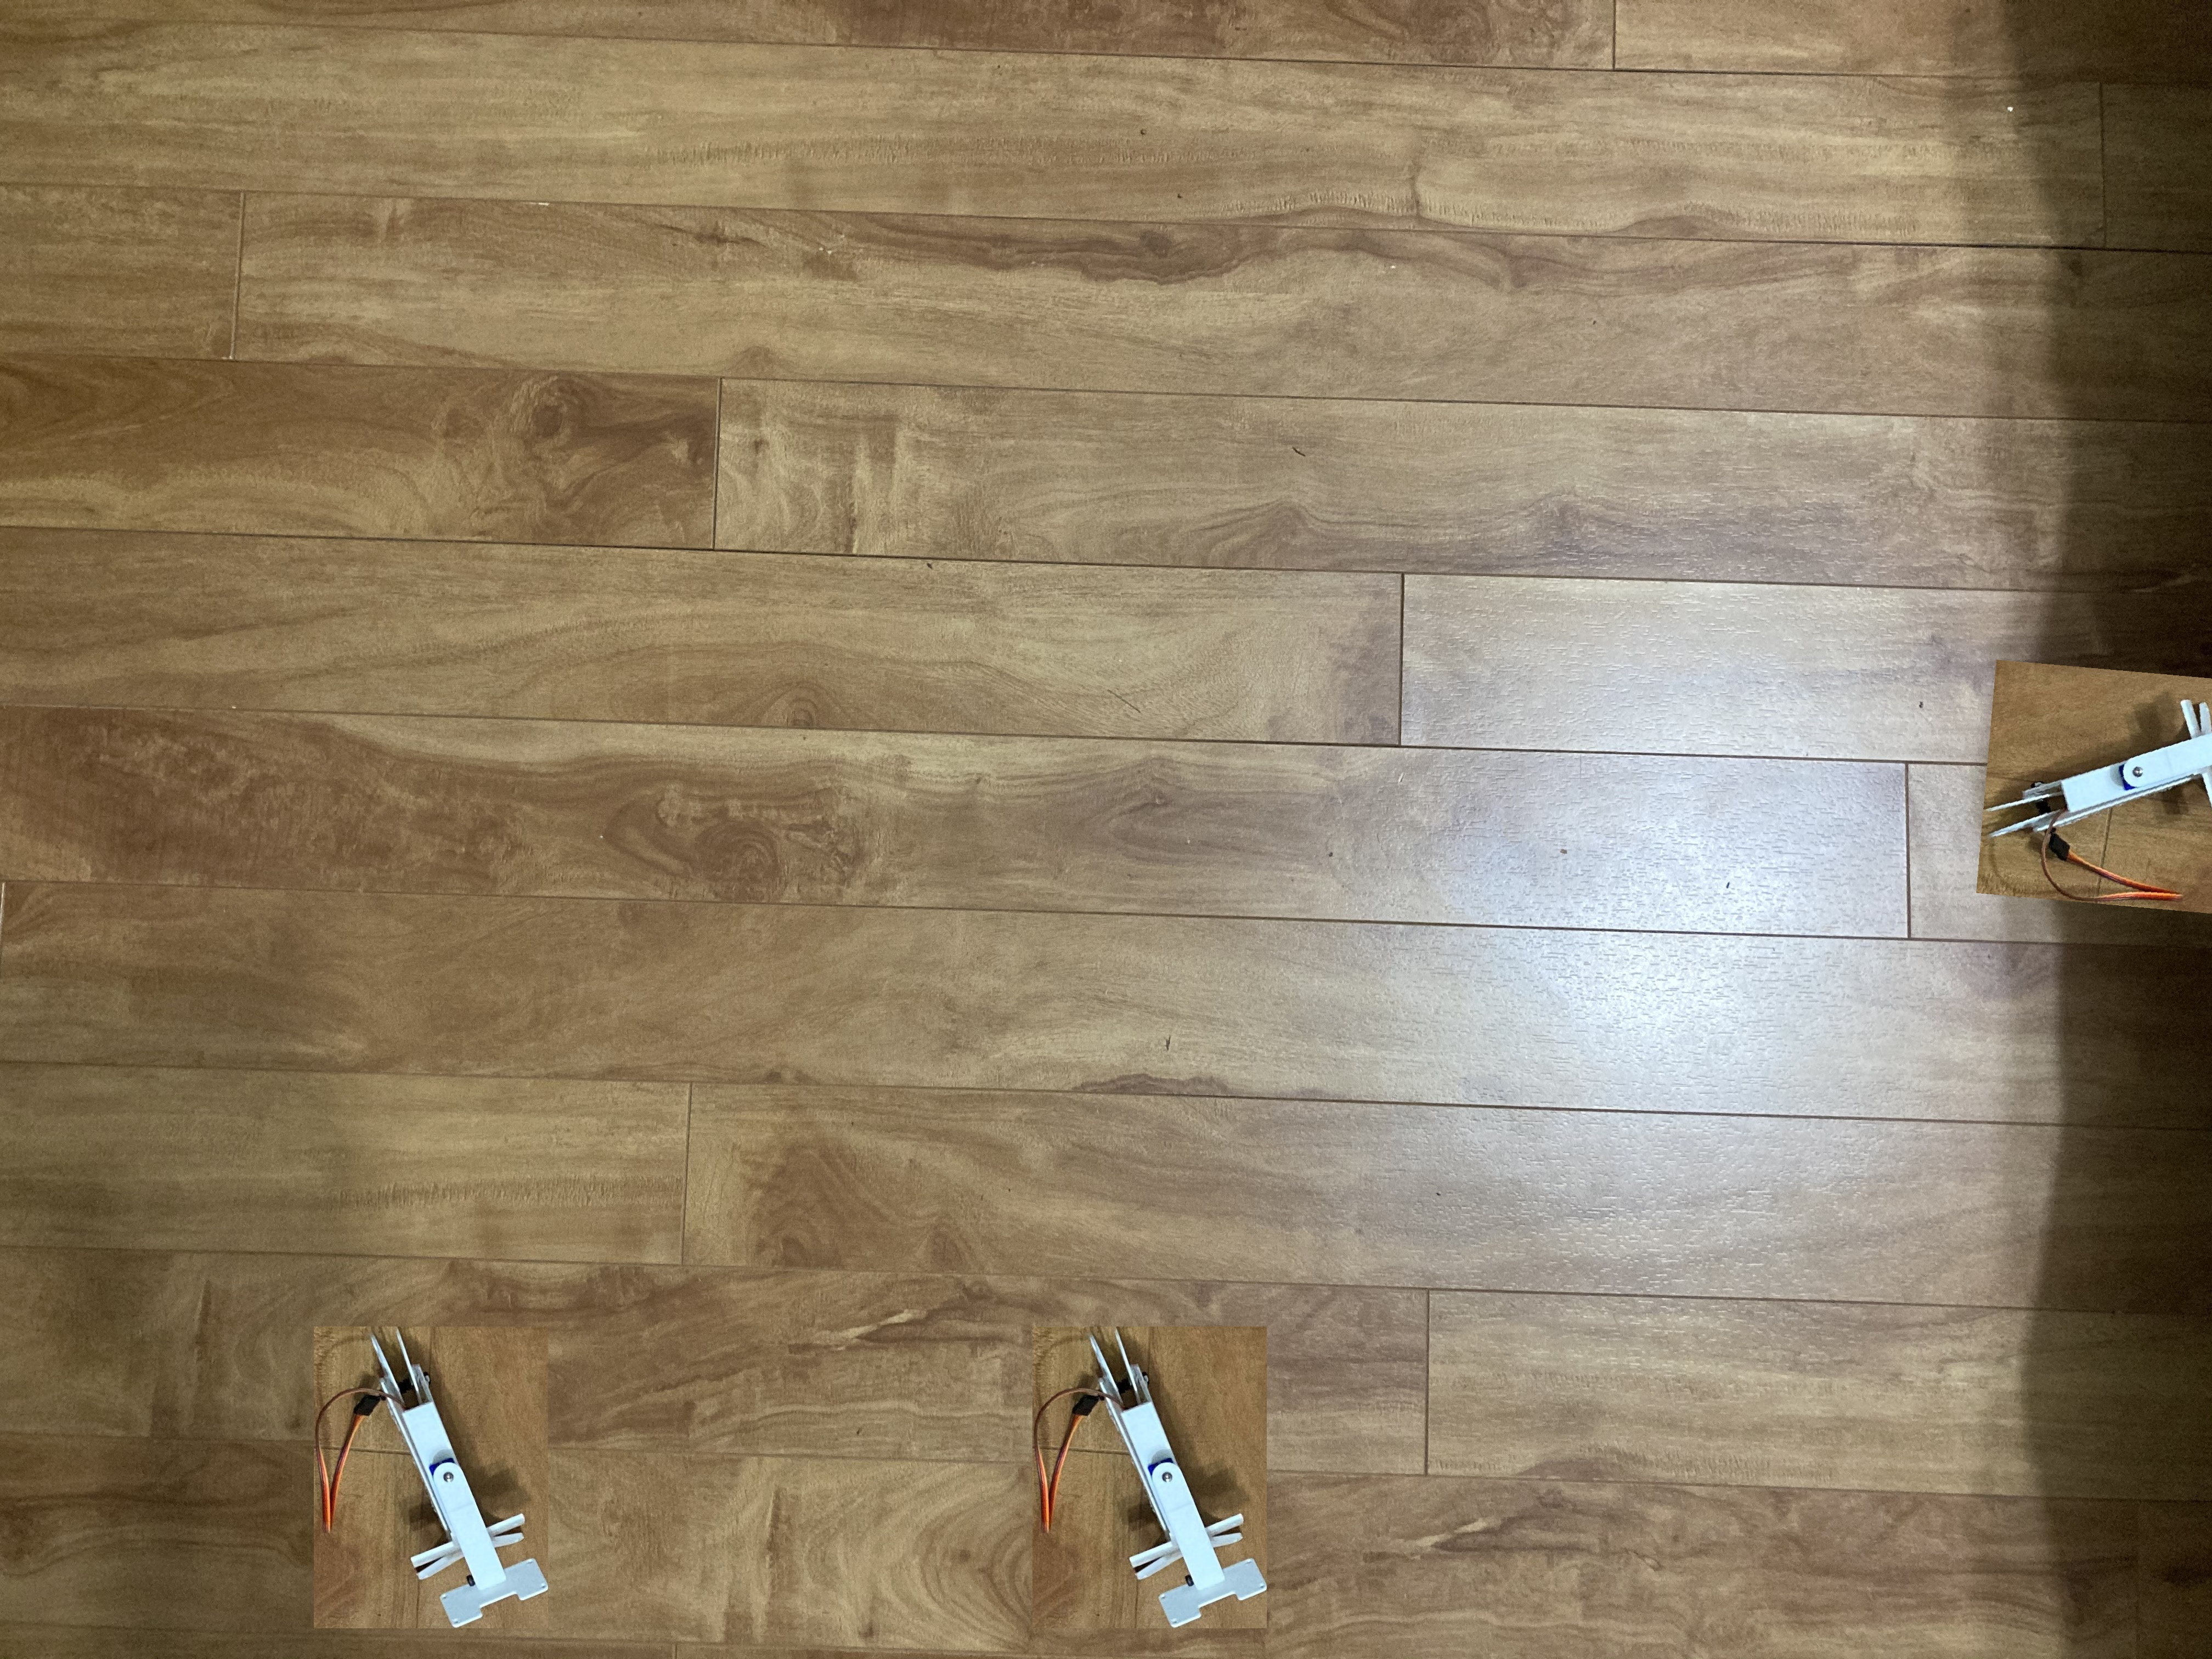robot: (331, 1310, 580, 1647), (1059, 1314, 1292, 1633), (1994, 666, 2212, 897)
